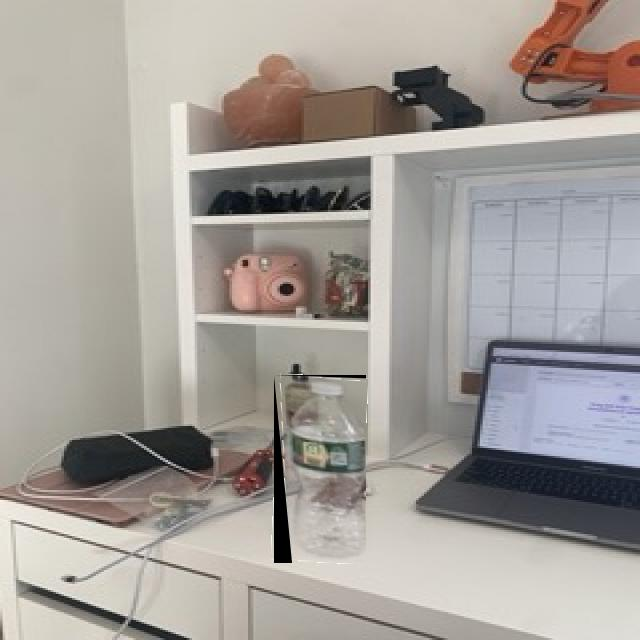water_bottle: (274, 375, 366, 563)
